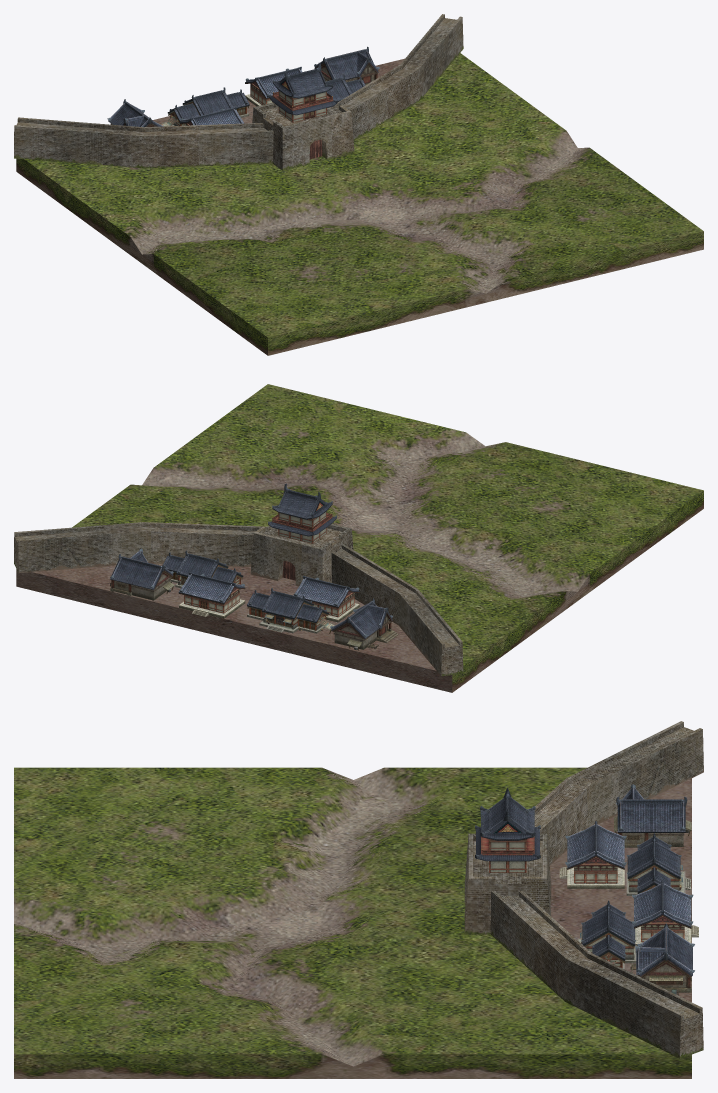
The model's file is map017.FBX.
The picture shows the model from 3 angles, top to bottom: view 1: azimuth 30°, elevation 25°; view 2: azimuth 150°, elevation 25°; view 3: azimuth 270°, elevation 25°; orthographic projection. The views are drawn at different scales.
Visible parts, largest first — view 1: map017, Box085, house262, house263, house259, house265; view 2: map017, Box085, house263, house259, house265, house262; view 3: map017, Box085, house265, house263, house259, house262.
Boxes of the visible parts, x1,y1,x2,y2 form: map017: (16, 53, 703, 355); Box085: (14, 14, 463, 170); house262: (268, 63, 337, 122); house263: (107, 46, 379, 127); house259: (159, 74, 365, 126); house265: (180, 66, 302, 125); map017: (16, 384, 703, 692); Box085: (14, 522, 463, 676); house263: (110, 548, 398, 650); house259: (158, 550, 334, 633); house265: (178, 572, 359, 622); house262: (268, 483, 336, 543); map017: (14, 767, 691, 1078); Box085: (464, 721, 703, 1058); house265: (559, 821, 698, 946); house263: (614, 784, 694, 995); house259: (577, 833, 691, 968); house262: (475, 788, 540, 872).
Bounding box in the file's own units: 103 × 22.42 × 102.
